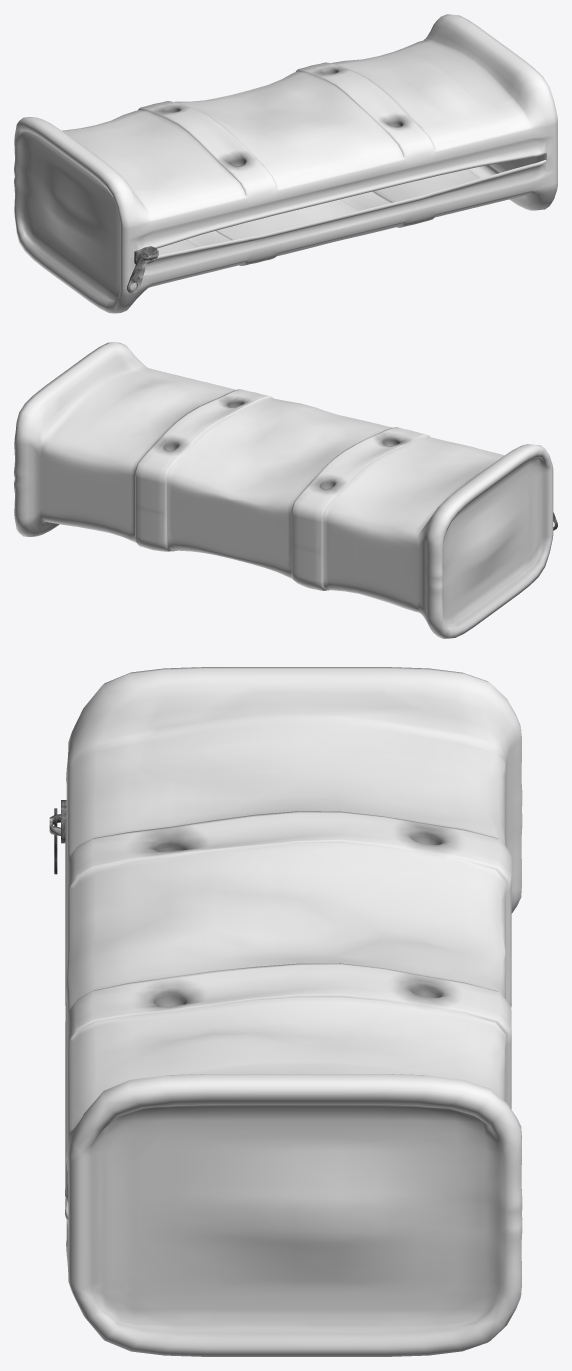
Rendered from pcase.fbx.
3 views of the same model, one above another, from view 1: azimuth 30°, elevation 25°; view 2: azimuth 150°, elevation 25°; view 3: azimuth 270°, elevation 25° (orthographic). The views are drawn at different scales.
Parts seen in each view (by area): view 1: pcase; view 2: pcase; view 3: pcase.
Part boxes in pixels (left/top/right/bottom): pcase: left=14, top=14, right=557, bottom=313; pcase: left=14, top=342, right=557, bottom=638; pcase: left=49, top=667, right=522, bottom=1356.
Size of the model in its own units: 437 by 133 by 207.
2 materials, 2 textured.
